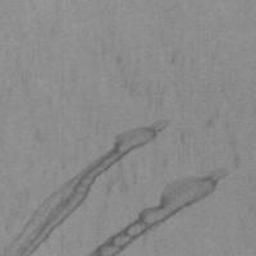Water spot: (1, 118, 172, 256), (88, 166, 232, 256)
